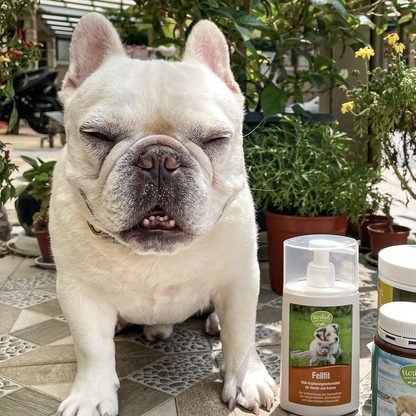bulldog: (45, 13, 300, 415)
